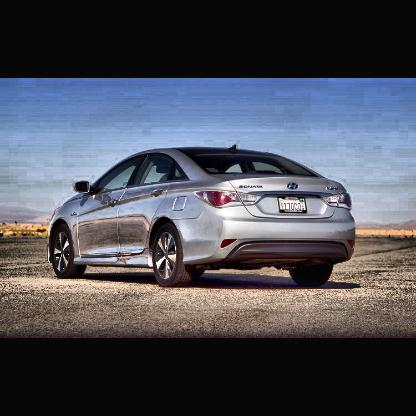Hyundai Sonata Hybrid Sedan 2012: (48, 144, 358, 285)
